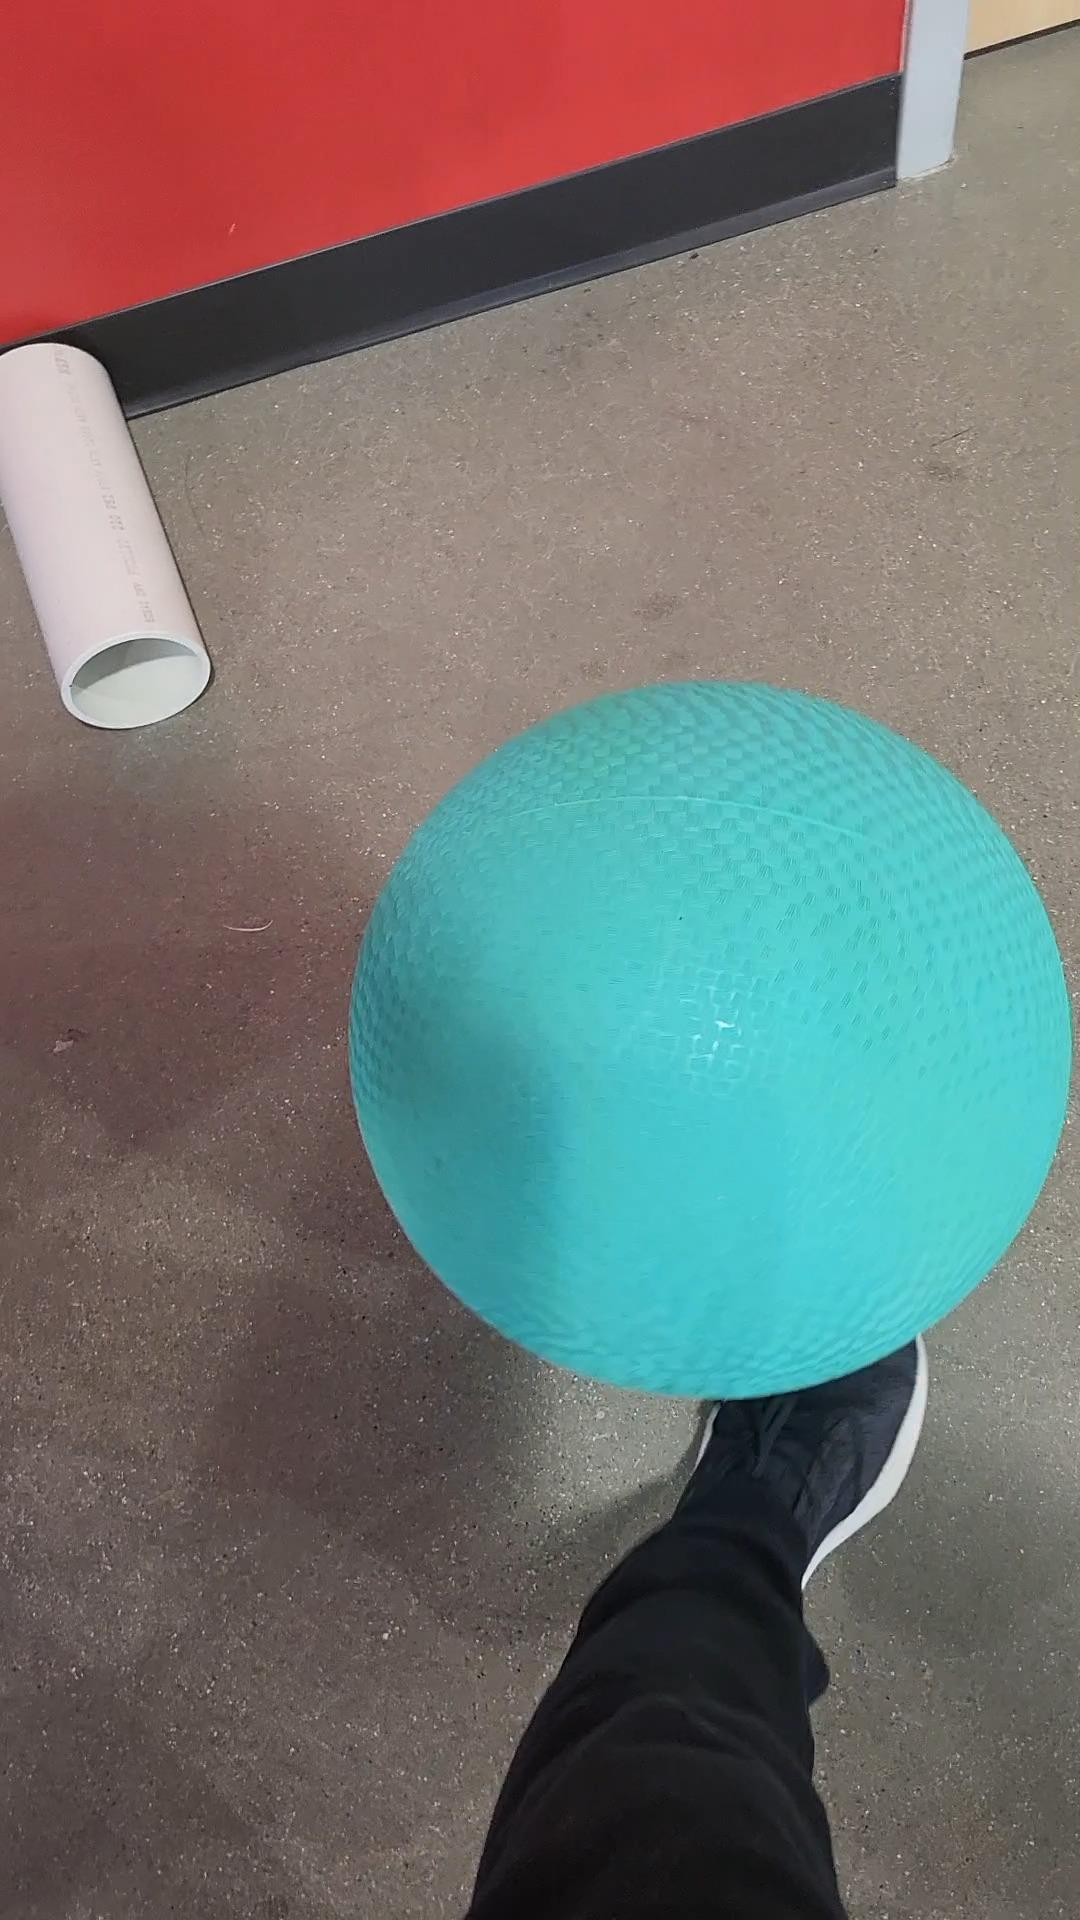algae: (371, 671, 1080, 1412)
coral: (0, 331, 219, 741)
